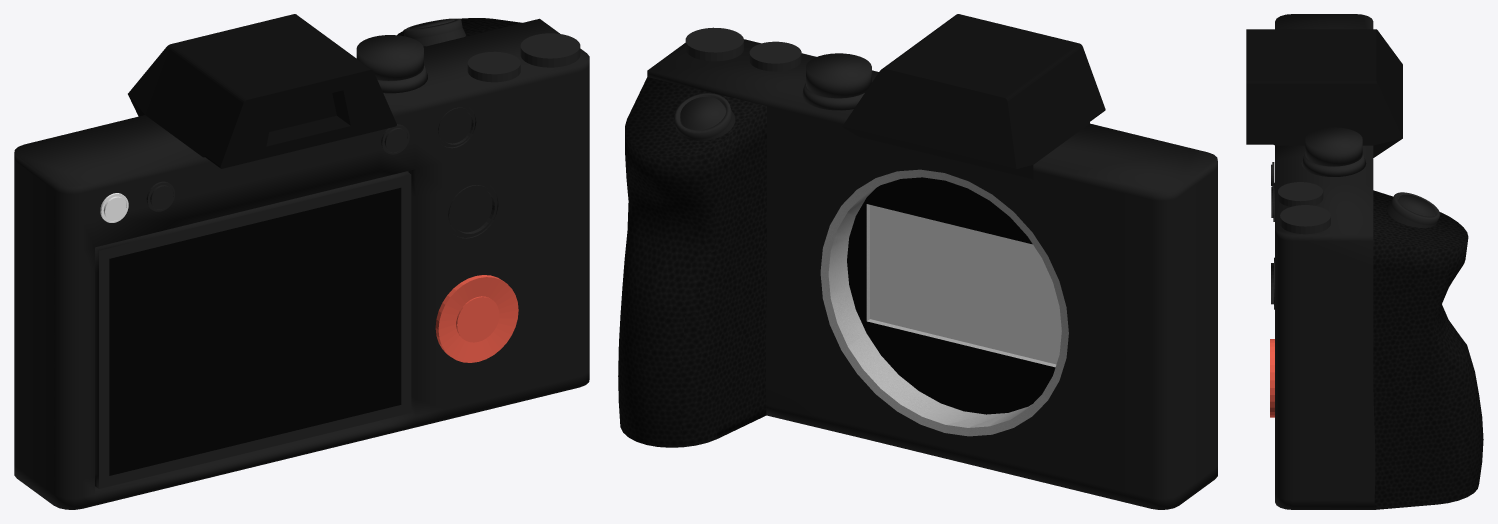
File: cam-final-black.glb
3 renders of one model, left to right at view 1: azimuth 30°, elevation 25°; view 2: azimuth 150°, elevation 25°; view 3: azimuth 270°, elevation 25°, orthographic. The views are drawn at different scales.
Visible parts, largest first — view 1: Cam, Display, Viewfinder, Display Frame, Iso Button, Mode Button, Button 2, Button 3, Button, Camera Handle Missing, Button 8, Button 7 (+1 smaller); view 2: Cam, Camera Handle Missing, Viewfinder, Sensor, sensor circle, Sensor Circle, Sensor Inner Circle, Mode Button, Button, Button 2, Button 3, Sensor Frame; view 3: Cam, Camera Handle Missing, Viewfinder, Mode Button, Button, Button 2, Button 3, Iso Button.
Part boxes in pixels (left/top/right/bottom): Cam: left=14, top=18, right=589, bottom=509; Display: left=109, top=187, right=401, bottom=475; Viewfinder: left=128, top=14, right=396, bottom=168; Display Frame: left=99, top=174, right=411, bottom=488; Iso Button: left=435, top=275, right=518, bottom=362; Mode Button: left=356, top=35, right=427, bottom=93; Button 2: left=520, top=33, right=580, bottom=67; Button 3: left=467, top=51, right=520, bottom=82; Button: left=403, top=18, right=465, bottom=46; Camera Handle Missing: left=397, top=18, right=522, bottom=46; Button 8: left=100, top=193, right=128, bottom=222; Button 7: left=146, top=181, right=174, bottom=211; Cam: left=647, top=39, right=1217, bottom=509; Camera Handle Missing: left=618, top=77, right=766, bottom=447; Viewfinder: left=842, top=14, right=1105, bottom=178; Sensor: left=870, top=205, right=1061, bottom=364; sensor circle: left=847, top=177, right=1055, bottom=414; Sensor Circle: left=820, top=169, right=1068, bottom=436; Sensor Inner Circle: left=828, top=188, right=1032, bottom=427; Mode Button: left=802, top=53, right=871, bottom=110; Button: left=674, top=93, right=735, bottom=140; Button 2: left=685, top=27, right=743, bottom=61; Button 3: left=749, top=41, right=801, bottom=71; Sensor Frame: left=866, top=204, right=1056, bottom=367; Cam: left=1275, top=14, right=1375, bottom=509; Camera Handle Missing: left=1373, top=190, right=1483, bottom=509; Viewfinder: left=1246, top=29, right=1402, bottom=157; Mode Button: left=1301, top=127, right=1366, bottom=176; Button: left=1386, top=192, right=1440, bottom=227; Button 2: left=1280, top=205, right=1330, bottom=234; Button 3: left=1278, top=182, right=1323, bottom=206; Iso Button: left=1270, top=339, right=1274, bottom=417.
Bounding box in the file's own units: 3.46 × 2.39 × 1.57.
Materials: 9 (2 with a texture image).
